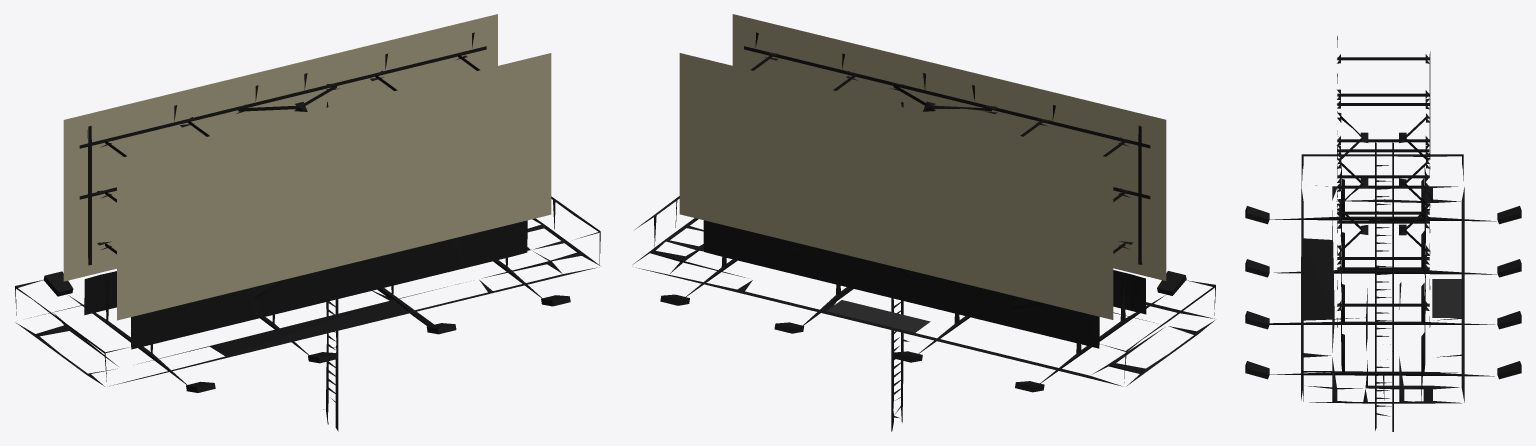
File: billboard-tall.back-v1.lod1.glb
3 renders of one model, left to right at view 1: azimuth 30°, elevation 25°; view 2: azimuth 150°, elevation 25°; view 3: azimuth 270°, elevation 25°, orthographic. The views are drawn at different scales.
Parts seen in each view (by area): view 1: ADs_AD_0; view 2: ADs_AD_0; view 3: ADs_AD_0.
Part boxes in pixels (x1,y1,x2,y2): ADs_AD_0: (15, 14, 600, 431); ADs_AD_0: (633, 14, 1215, 431); ADs_AD_0: (1245, 36, 1521, 431).
Bounding box in the file's own units: 10.95 × 7.34 × 5.9.
